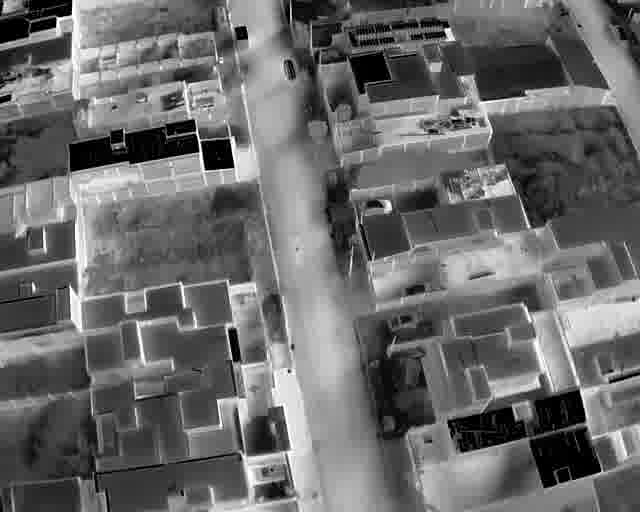car: (89, 223, 113, 246), (103, 24, 124, 38)
